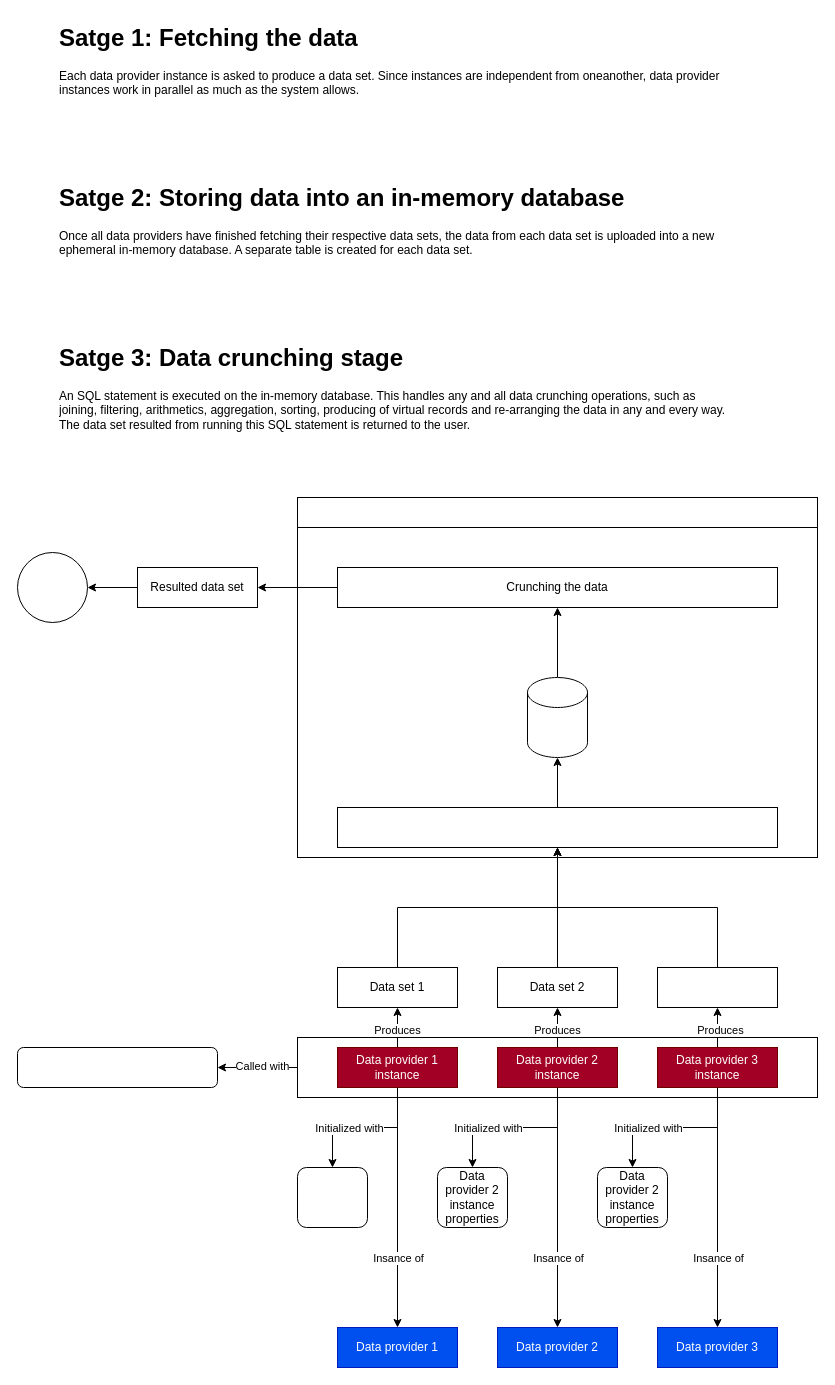
The diagram is 835 pixels wide and 1385 high, and some of its shapes have lost their labels. The shapes that lost their labels are listed below. From the top down, each one's centre as x and y in pixels, then its label:
At (557,512): "Report compiler".
At (52,587): "USER".
At (557,827): "Storing the data into an in-memory database".
At (717,987): "Data set 3".
At (117,1067): "Report parameters name / value map".
At (332,1197): "Data provider 1 instance properties".
